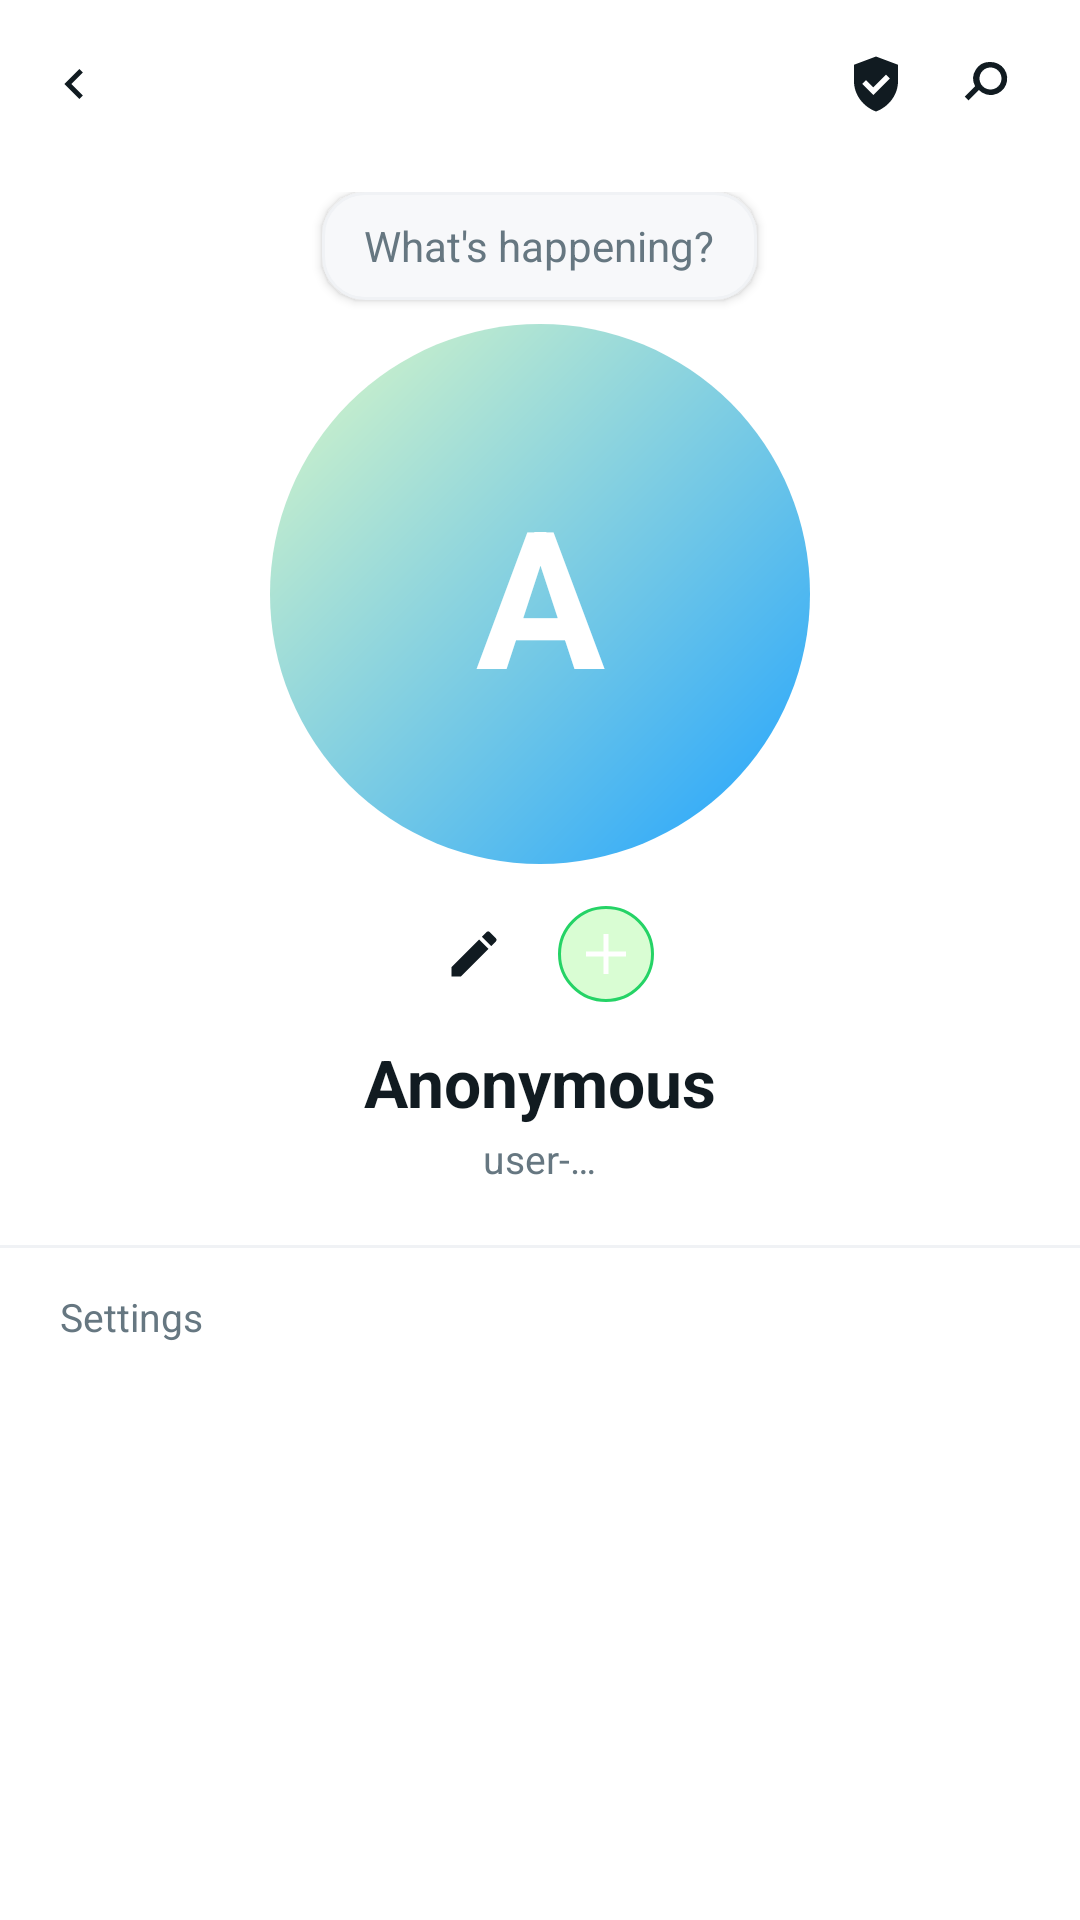

Named icons in this screenshot (1080×1920) and their bounding boxes, (x1, y1, x2, y2):
Edit display name: (451, 931, 497, 977)
Search: (965, 62, 1008, 101)
